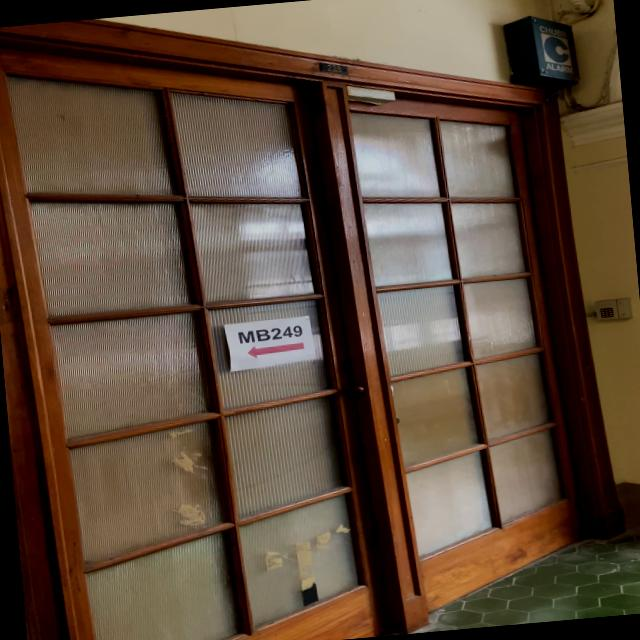room228: (316, 56, 350, 78)
